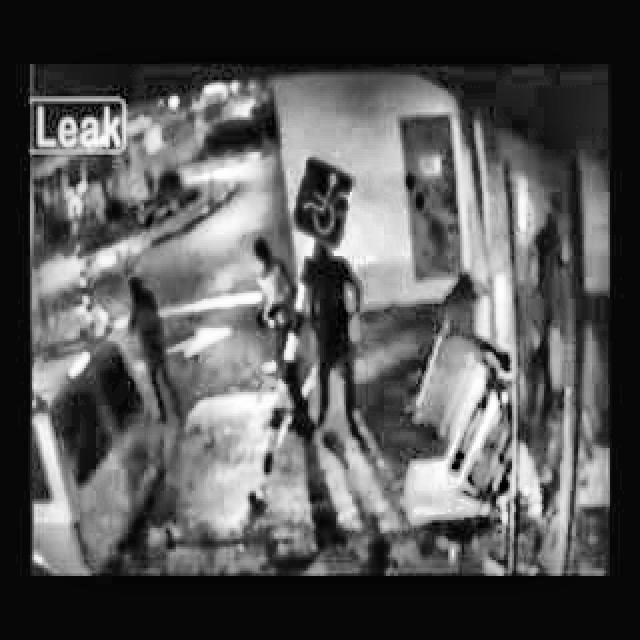burglary: (32, 234, 610, 576)
